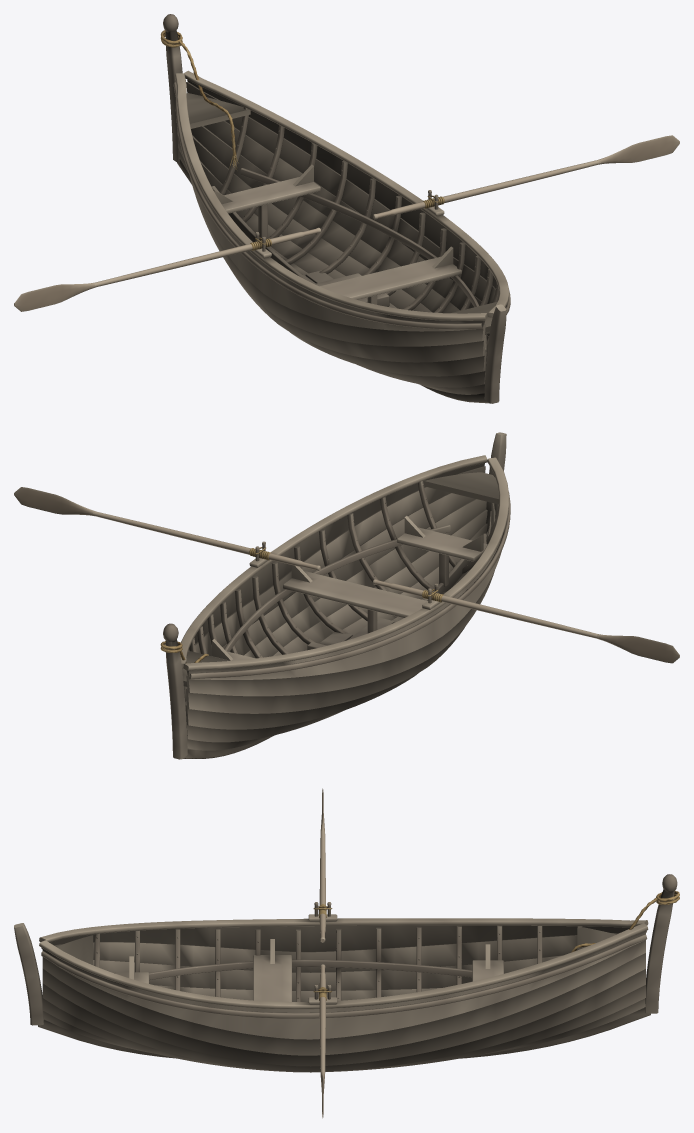
Rendered from boat.7cdbf7f3.glb.
The picture shows the model from 3 angles, top to bottom: view 1: azimuth 30°, elevation 25°; view 2: azimuth 150°, elevation 25°; view 3: azimuth 270°, elevation 25°; orthographic projection.
Parts seen in each view (by area): view 1: boat, oar_l, oar_r; view 2: boat, oar_l, oar_r; view 3: boat, oar_l, oar_r.
Boxes of the visible parts, left/top/right/bottom form: boat: left=160, top=14, right=510, bottom=403; oar_l: left=14, top=227, right=320, bottom=311; oar_r: left=373, top=135, right=679, bottom=219; boat: left=160, top=432, right=510, bottom=759; oar_l: left=373, top=579, right=679, bottom=663; oar_r: left=14, top=487, right=320, bottom=570; boat: left=14, top=874, right=679, bottom=1072; oar_l: left=319, top=788, right=326, bottom=942; oar_r: left=319, top=964, right=326, bottom=1118.
Size of the model in its own units: 5.26 by 1.43 by 4.64.
